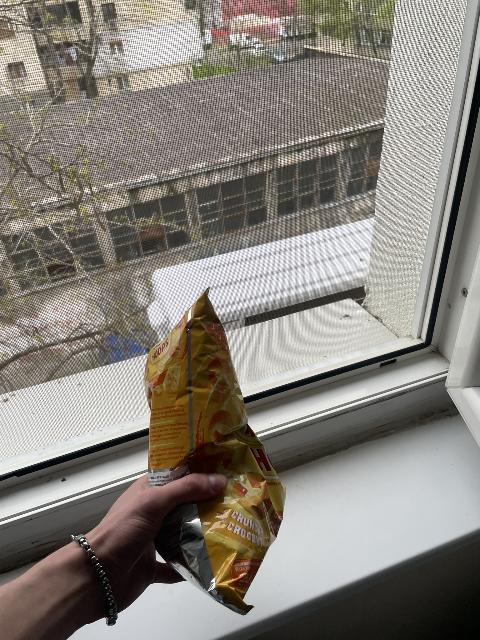Chio Hula Hoops Cheese 70g: (144, 290, 288, 614)
